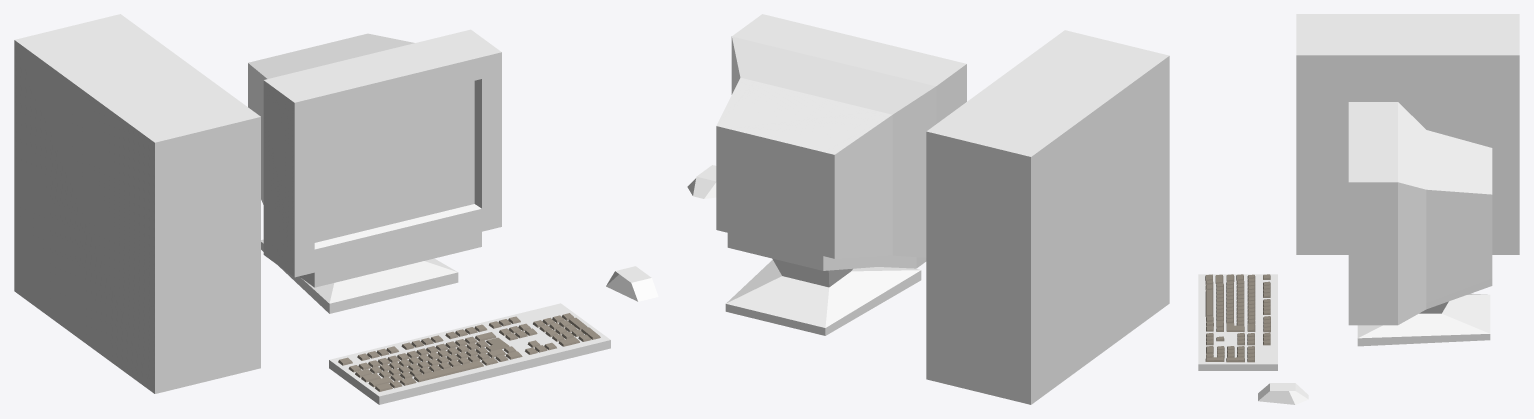
The model's file is mainmodel.glb.
3 views of the same model, side by side, from view 1: azimuth 30°, elevation 25°; view 2: azimuth 150°, elevation 25°; view 3: azimuth 270°, elevation 25° (orthographic). The views are drawn at different scales.
Parts seen in each view (by area): view 1: Tower, Monitor, Screen, keyboard, Monitor-stand, Cube, key, key.001, key.002, key.003; view 2: Tower, Monitor, Monitor-stand, Cube; view 3: Tower, Monitor, keyboard, Monitor-stand, Cube, key, key.001, key.002, key.003.
Boxes of the visible parts, left/top/right/bottom form: Tower: left=14, top=14, right=260, bottom=393; Monitor: left=248, top=29, right=501, bottom=287; Screen: left=314, top=81, right=474, bottom=242; keyboard: left=329, top=303, right=610, bottom=404; Monitor-stand: left=261, top=239, right=458, bottom=313; Cube: left=606, top=266, right=658, bottom=301; key: left=348, top=336, right=477, bottom=372; key.001: left=370, top=340, right=488, bottom=373; key.002: left=379, top=347, right=487, bottom=377; key.003: left=390, top=353, right=489, bottom=381; Tower: left=926, top=30, right=1169, bottom=404; Monitor: left=716, top=14, right=966, bottom=270; Monitor-stand: left=725, top=258, right=921, bottom=335; Cube: left=687, top=165, right=716, bottom=198; Tower: left=1296, top=14, right=1519, bottom=254; Monitor: left=1348, top=102, right=1492, bottom=325; keyboard: left=1198, top=274, right=1277, bottom=370; Monitor-stand: left=1357, top=293, right=1490, bottom=346; Cube: left=1258, top=383, right=1308, bottom=404; key: left=1247, top=274, right=1255, bottom=324; key.001: left=1236, top=280, right=1244, bottom=325; key.002: left=1226, top=281, right=1233, bottom=323; key.003: left=1216, top=283, right=1223, bottom=321.
Bounding box in the file's own units: 4.03 × 2.02 × 2.88.
